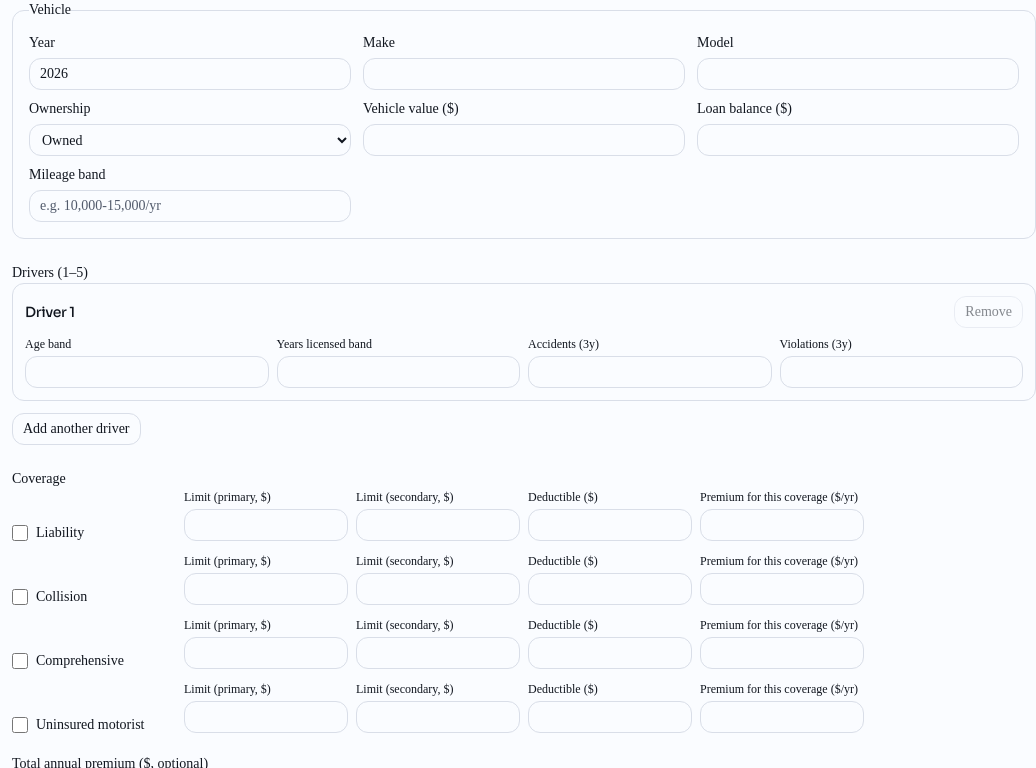
Test: CarProfile › shows "Not entered" (never "Not covered") for an excluded coverage (CAR-2)
Step 1. Type "Honda" into the field labelled "Make" → (524, 74), box [363,58,685,90]
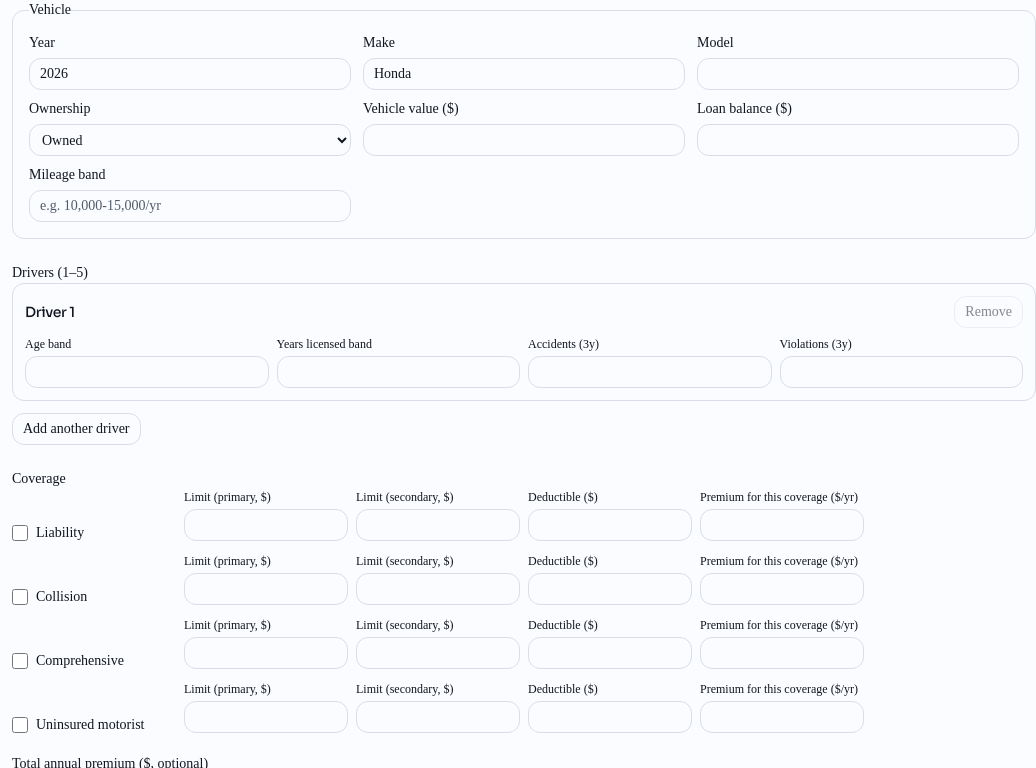
Step 2. Type "Civic" into the field labelled "Model" → (858, 74), box [697,58,1019,90]
(page scrolled)
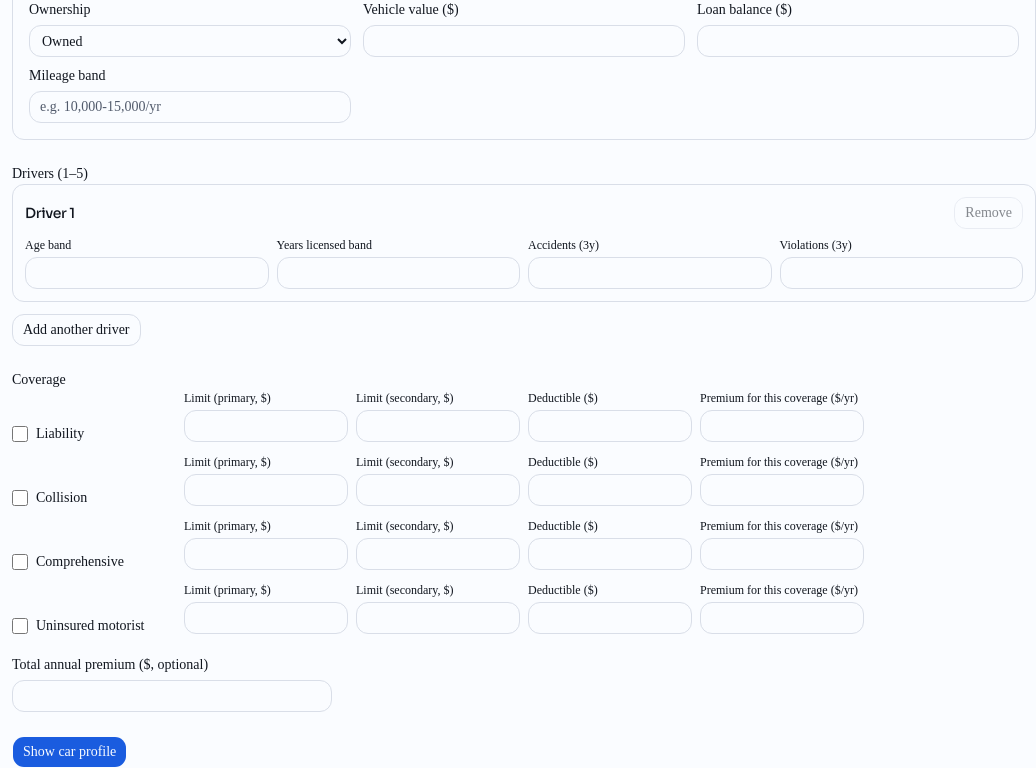
Step 3. Click the button "Show car profile" → (70, 752), box [12,736,127,767]
(page scrolled)
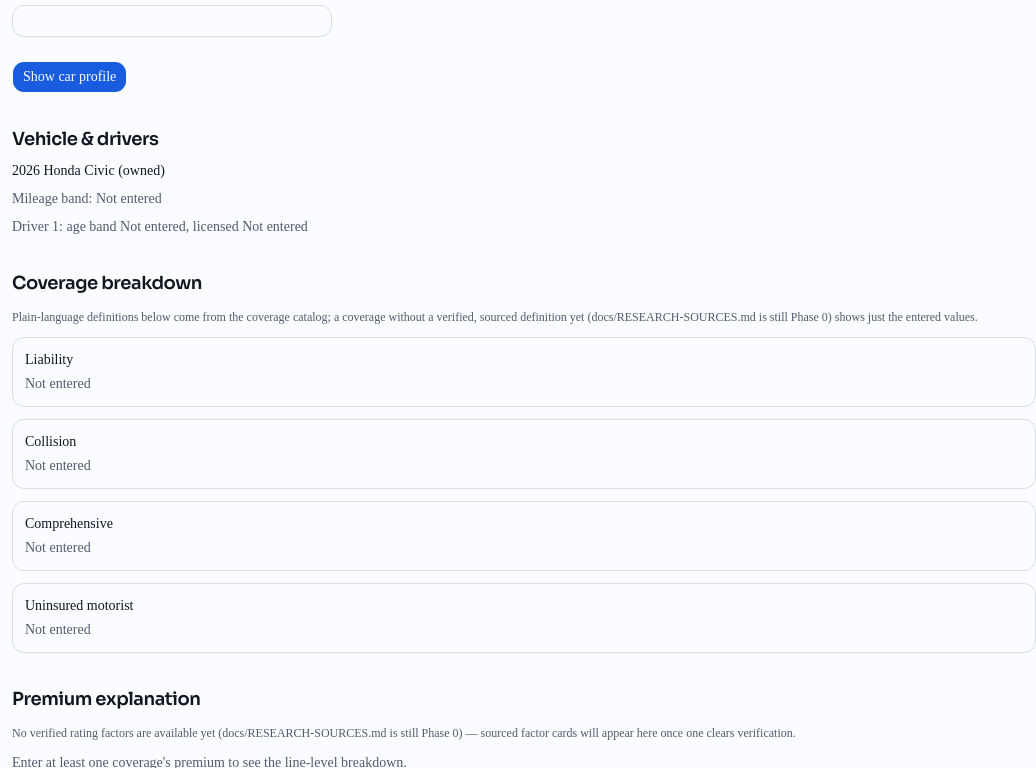
Expected: the heading "Coverage breakdown" is shown, [12,272,202,294]
Expected: the 1st text "Not entered" is shown, [25,376,91,391]
